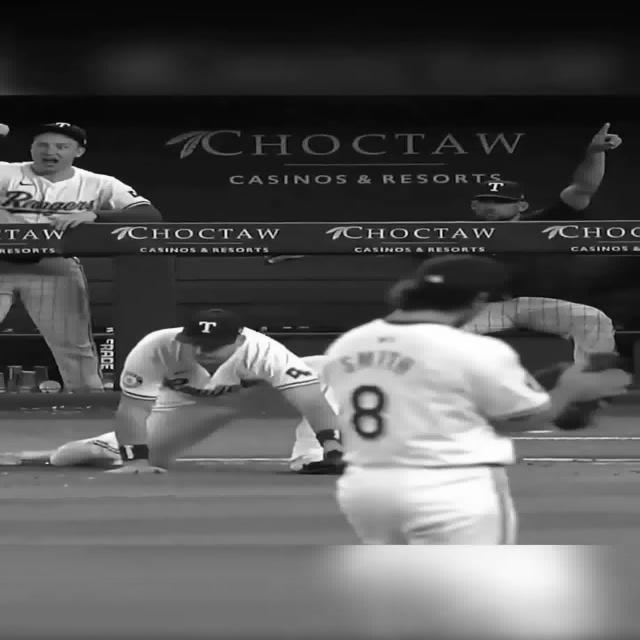base: (0, 450, 108, 462)
baseball_glove: (551, 398, 600, 431)
shoe: (49, 430, 123, 468), (295, 450, 345, 474)
